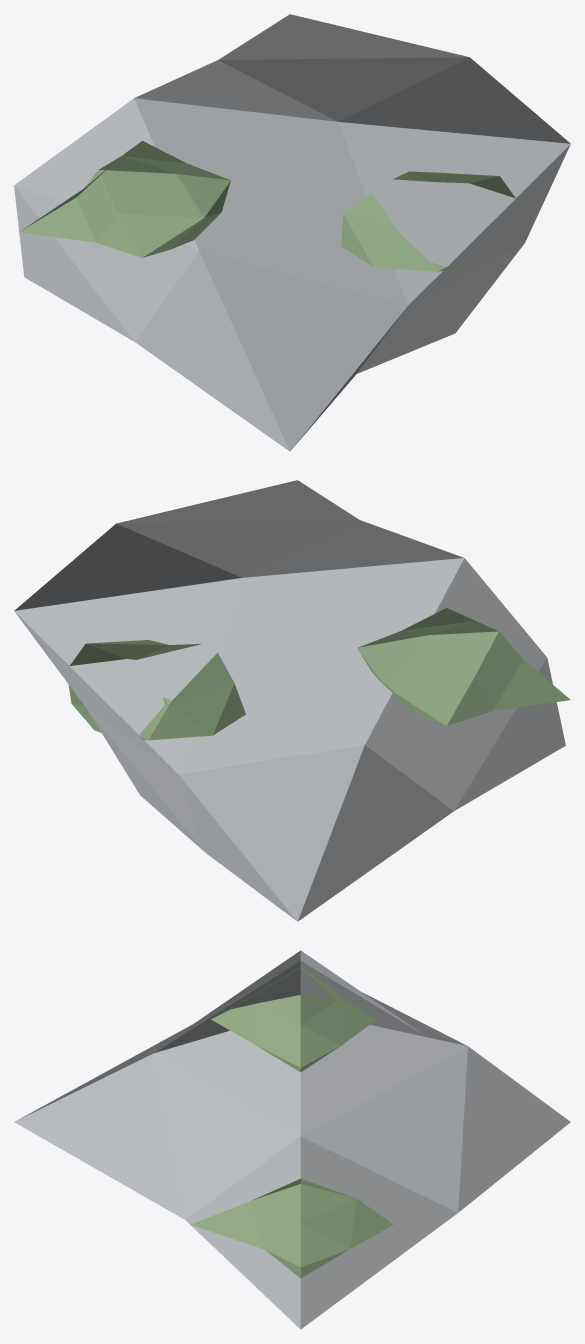
The model's file is moss_rock_v09.glb.
The picture shows the model from 3 angles, top to bottom: view 1: azimuth 30°, elevation 25°; view 2: azimuth 150°, elevation 25°; view 3: azimuth 270°, elevation 25°; orthographic projection. The views are drawn at different scales.
Parts seen in each view (by area): view 1: lod0; view 2: lod0; view 3: lod0.
Part boxes in pixels (bbox=[...]): lod0: bbox=[14, 14, 570, 451]; lod0: bbox=[14, 480, 570, 921]; lod0: bbox=[14, 950, 570, 1329].
Size of what is drawn, in the model's own units: 1.4 by 1.06 by 1.41.
